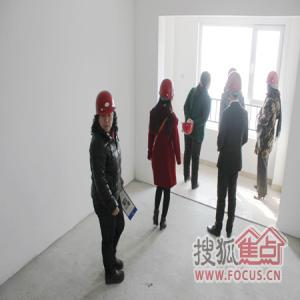none: (201, 70, 212, 90)
red: (95, 90, 116, 132), (226, 71, 244, 102), (159, 78, 176, 105), (266, 72, 280, 94)
